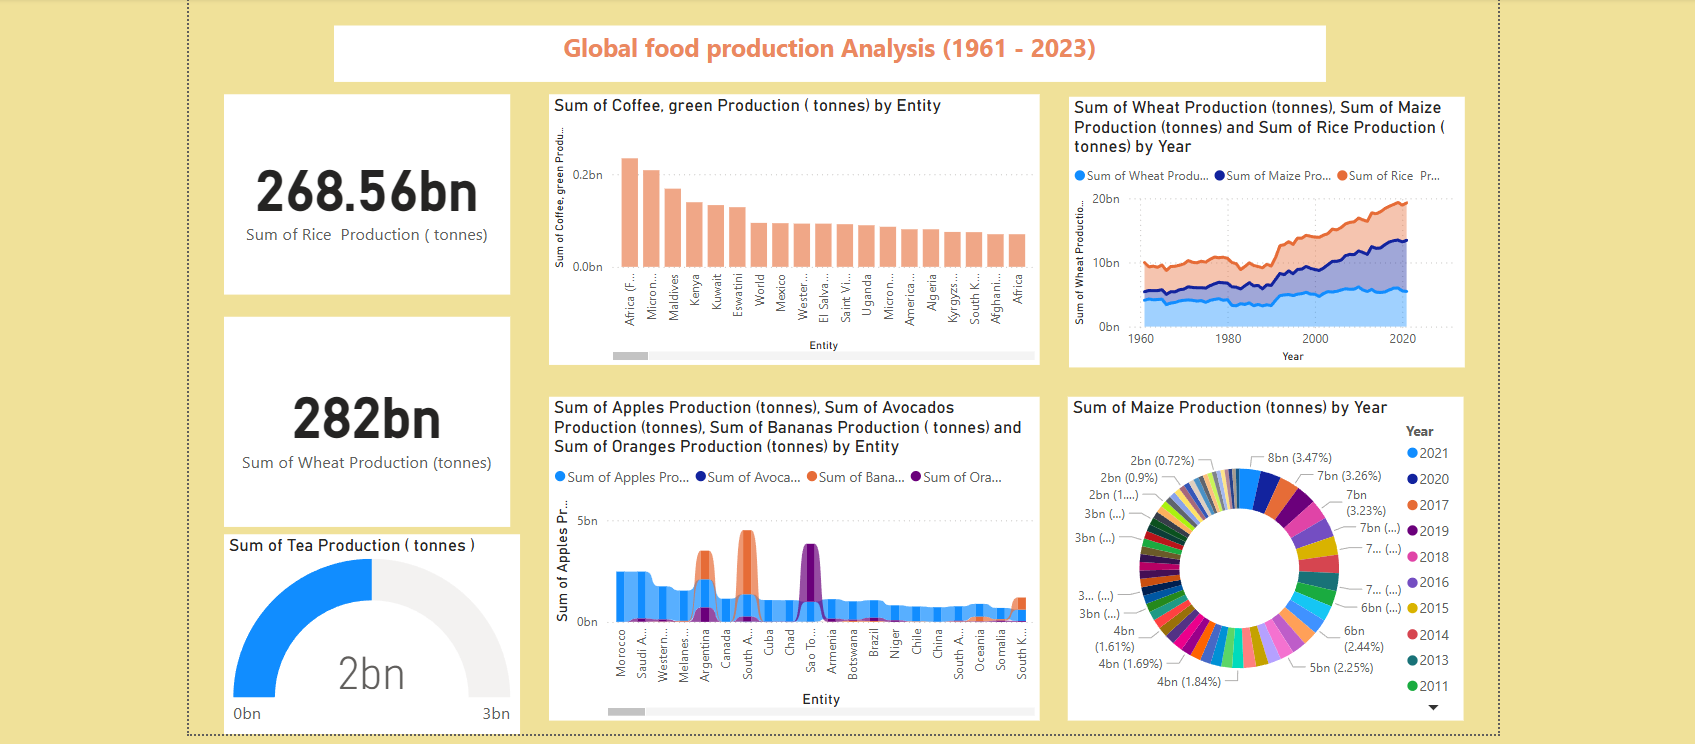

Layout of this report page (visuals, bound fields, positions):
{"tool":"powerbi","page":{"name":"Page 1","canvas":[1280,720],"ordinal":0},"visuals":[{"type":"card","fields":{"Values":["Sum(world food production.Rice  Production ( tonnes))"]},"box":[34.3,94.7,279.9,196.2],"z":0},{"type":"textbox","box":[141.3,27.4,970.2,54.9],"z":1},{"type":"card","fields":{"Values":["Sum(world food production.Wheat Production (tonnes))"]},"box":[34.3,311.5,279.9,205.8],"z":2},{"type":"gauge","fields":{"Y":["Sum(world food production.Tea  Production ( tonnes ))"]},"box":[34.3,524.2,289.5,196.2],"z":3},{"type":"clusteredColumnChart","fields":{"Y":["Sum(world food production.Coffee, green Production ( tonnes))"],"Category":["world food production.Entity"]},"box":[352.7,94.7,480.3,264.8],"z":4},{"type":"stackedAreaChart","fields":{"Y":["Sum(world food production.Wheat Production (tonnes))","Sum(world food production.Maize Production (tonnes))","Sum(world food production.Rice  Production ( tonnes))"],"Category":["world food production.Year"]},"box":[860.4,96.1,387,264.8],"z":5},{"type":"ribbonChart","fields":{"Y":["Sum(world food production.Apples Production (tonnes))","Sum(world food production.Avocados Production (tonnes))","Sum(world food production.Bananas  Production ( tonnes))","Sum(world food production.Oranges  Production (tonnes))"],"Category":["world food production.Entity"]},"box":[352.7,389.7,480.3,317],"z":6},{"type":"donutChart","fields":{"Y":["Sum(world food production.Maize Production (tonnes))"],"Category":["world food production.Year"]},"box":[860,390,387,317],"z":7}]}

Visuals, with their boxes on the page's 1280x720 design canvas (x1, y1, x2, y2). These are canvas units, not pixel positions in the 1695x744 screenshot, which may show the page scaled, cropped or inside an application window:
card - Sum(world food production.Rice  Production ( tonnes)): Rect(34, 95, 314, 291)
textbox: Rect(141, 27, 1112, 82)
card - Sum(world food production.Wheat Production (tonnes)): Rect(34, 312, 314, 517)
gauge - Sum(world food production.Tea  Production ( tonnes )): Rect(34, 524, 324, 720)
clusteredColumnChart - Sum(world food production.Coffee, green Production ( tonnes)) x world food production.Entity: Rect(353, 95, 833, 360)
stackedAreaChart - Sum(world food production.Wheat Production (tonnes)) x Sum(world food production.Maize Production (tonnes)): Rect(860, 96, 1247, 361)
ribbonChart - Sum(world food production.Apples Production (tonnes)) x Sum(world food production.Avocados Production (tonnes)): Rect(353, 390, 833, 707)
donutChart - Sum(world food production.Maize Production (tonnes)) x world food production.Year: Rect(860, 390, 1247, 707)
